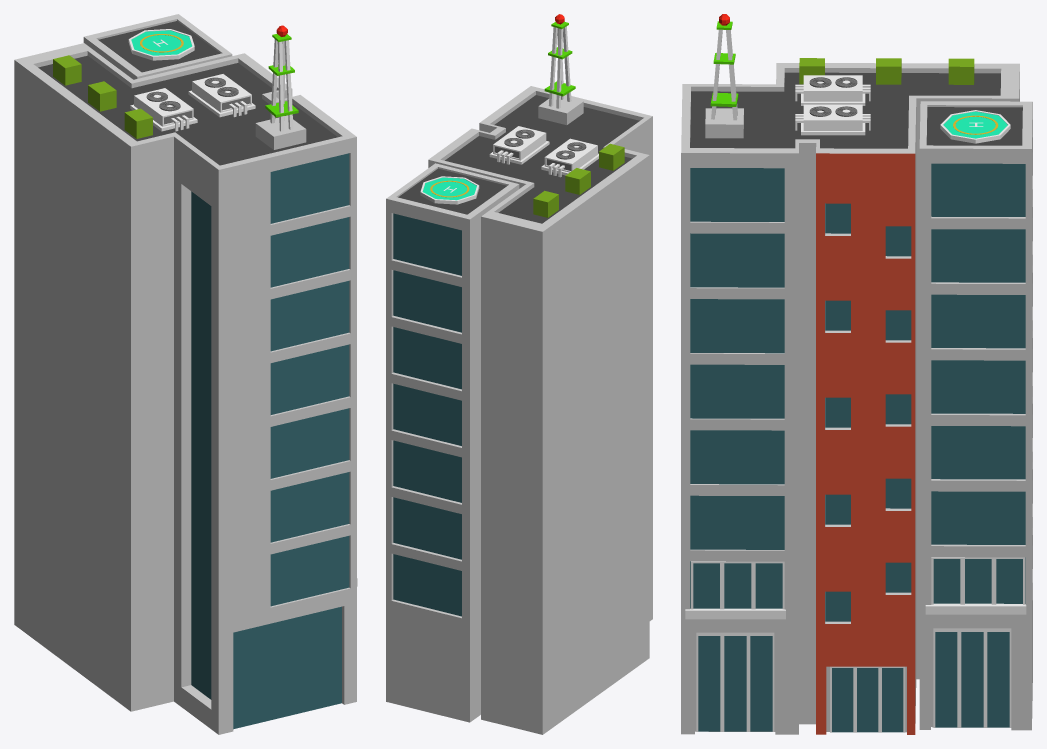
Rendered from Building_012.glb.
The picture shows the model from 3 angles, left to right: view 1: azimuth 30°, elevation 25°; view 2: azimuth 150°, elevation 25°; view 3: azimuth 270°, elevation 25°; orthographic projection. The views are drawn at different scales.
Parts seen in each view (by area): view 1: Cube.13699; view 2: Cube.13699; view 3: Cube.13699.
Boxes of the visible parts, bbox=[...] form: Cube.13699: bbox=[14, 14, 357, 734]; Cube.13699: bbox=[386, 14, 652, 734]; Cube.13699: bbox=[681, 14, 1032, 734].
Bounding box in the file's own units: 0.1918 × 0.6766 × 0.3114.
